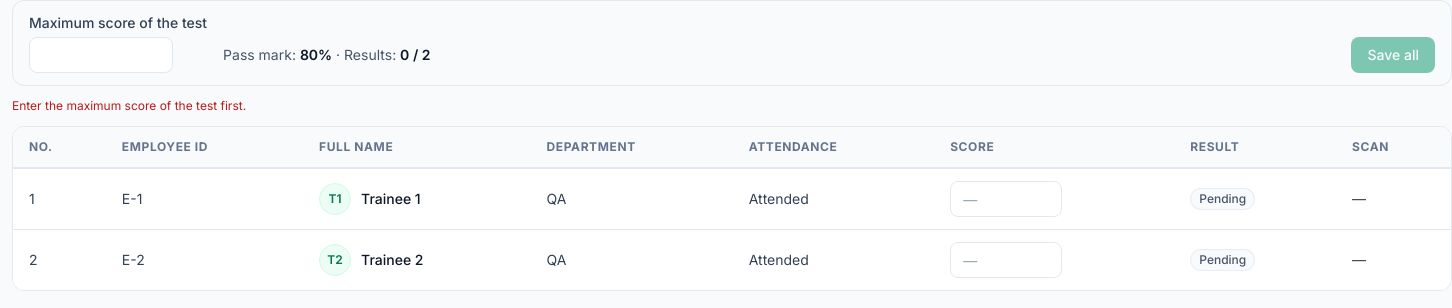
it: Results typed in the row of each person › shows the pass mark of Training Properties as the server sends it, and the result of a typed score with that mark
The image size is (1452, 308).
expect the text "80%" is shown: met, box [300,46,332,63]
Type "10" into the number field labelled "Maximum score of the test" at (101, 55), box [29,37,173,73]
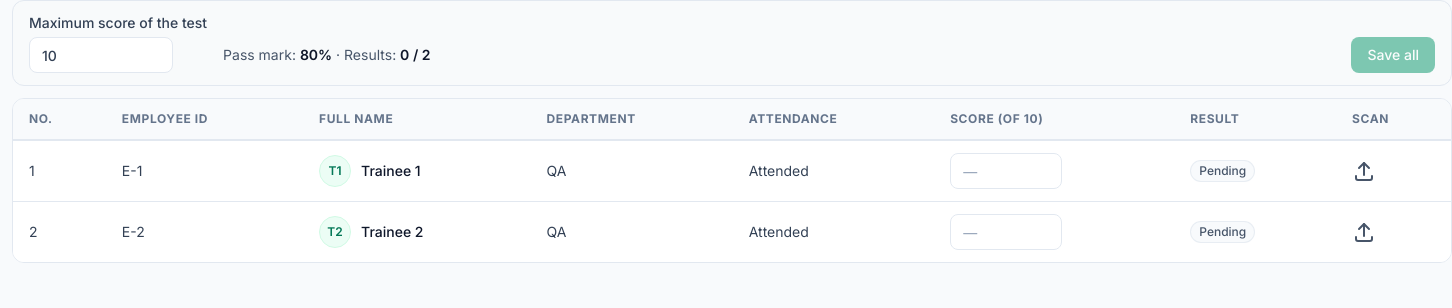
Type "8" into the number field named "Score of Trainee 1" at (1006, 171), box [950,153,1062,189]
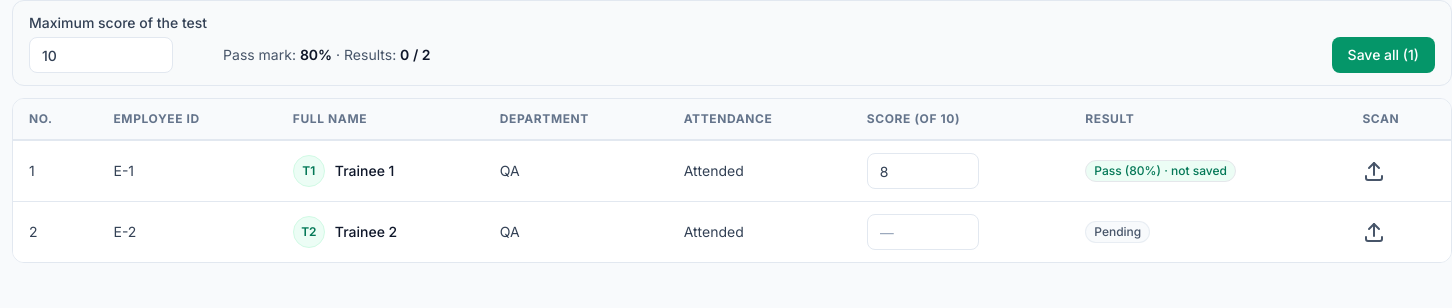
Type "7" into the number field named "Score of Trainee 2" at (923, 232), box [867,214,979,250]
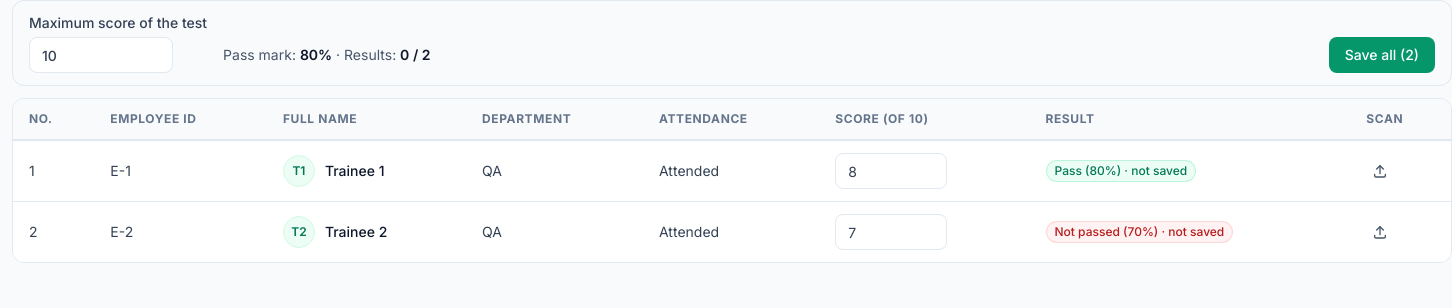
expect the text "Pass (80%) · not saved" is shown: met, box [1046,160,1196,182]
expect the text "Not passed (70%) · not saved" is shown: met, box [1046,221,1233,243]
